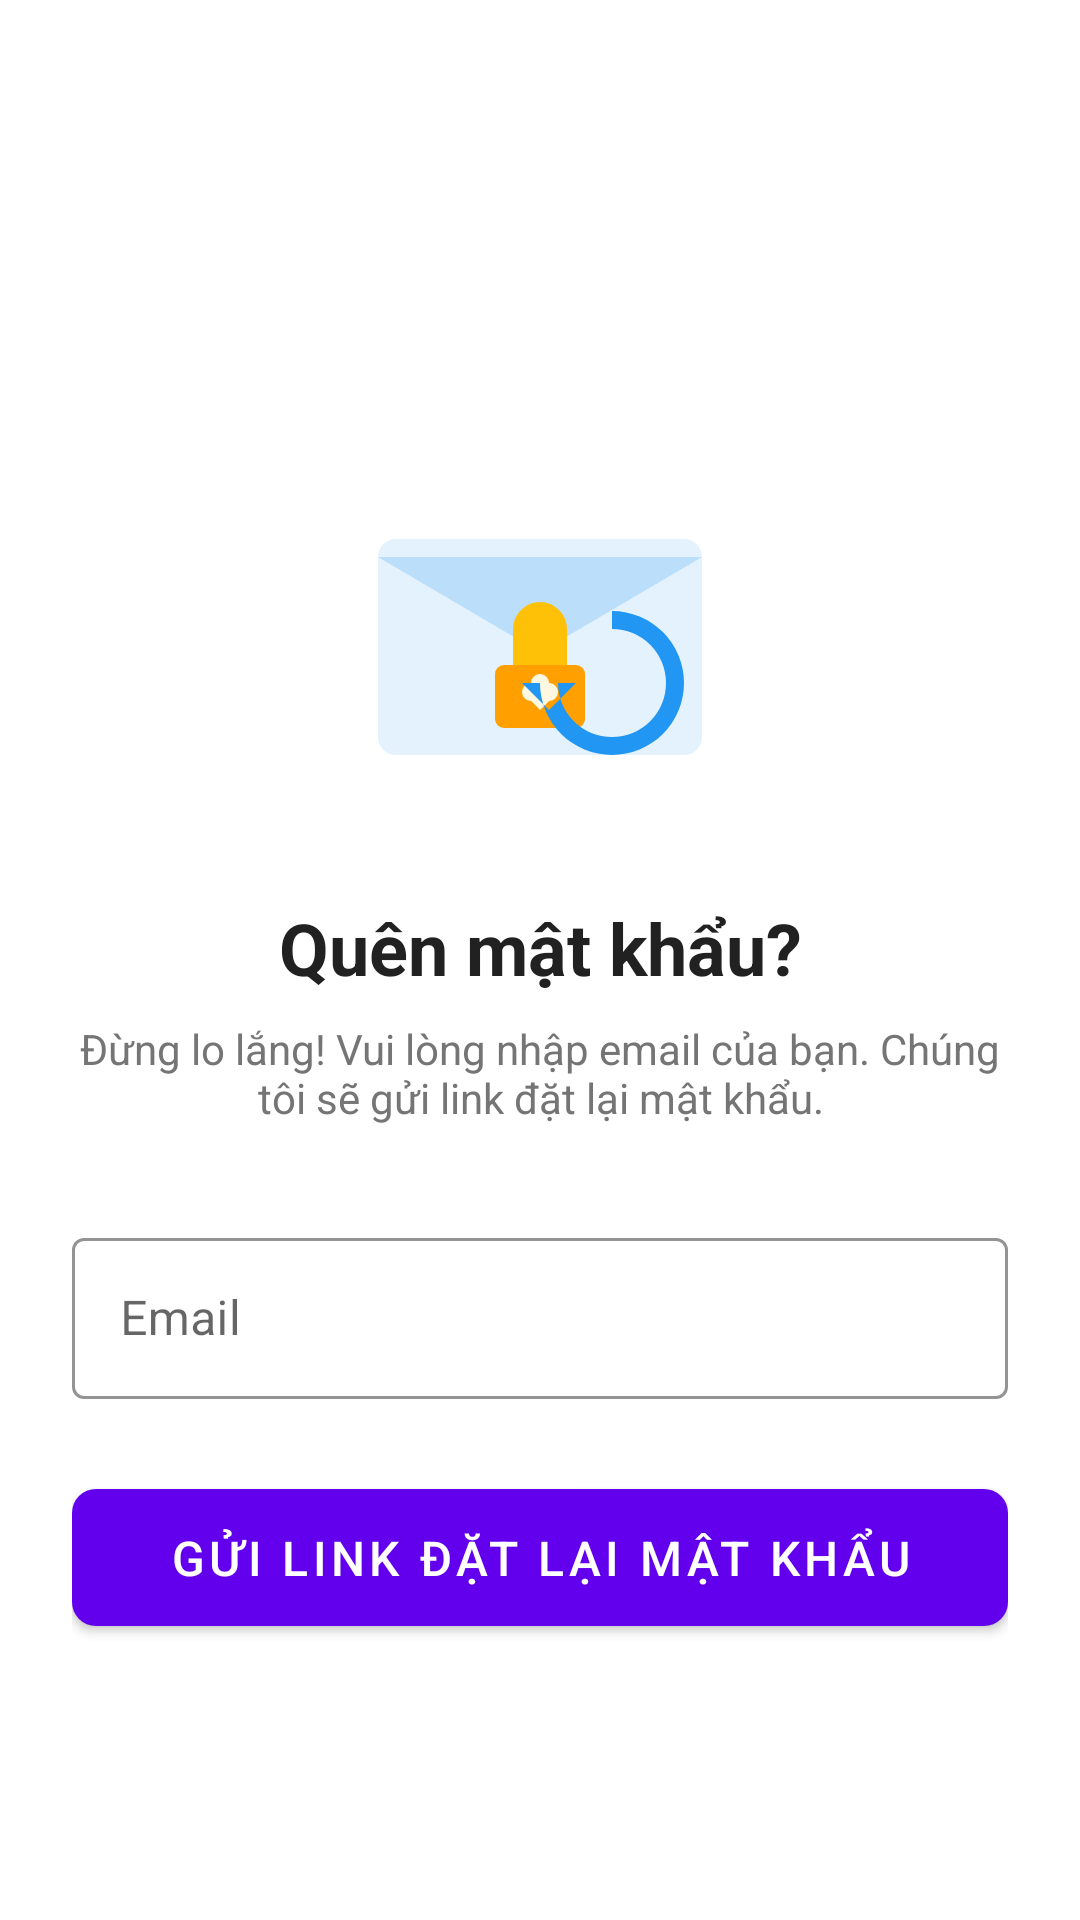

Locate icon controls on the screen. Image size 1080 x 1920, boxes as rect(x1, y1, x2, y2).
forgot password illustration: rect(378, 539, 702, 755)
